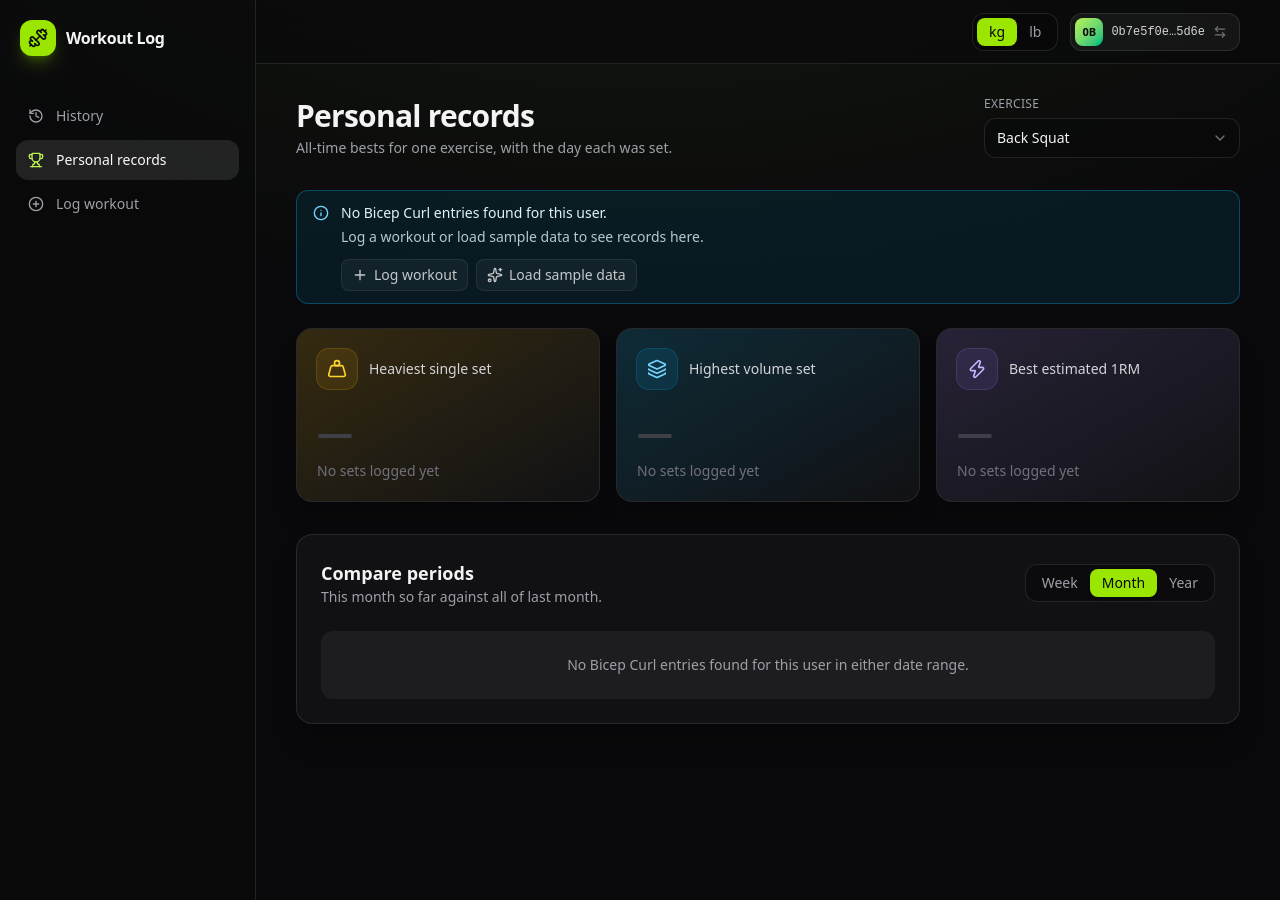
Test case: LoadSampleDataButton › says what it loaded, so an exercise outside the sample does not look broken
Click the button "Load sample data".
click(556, 275)  # box [476, 259, 637, 291]
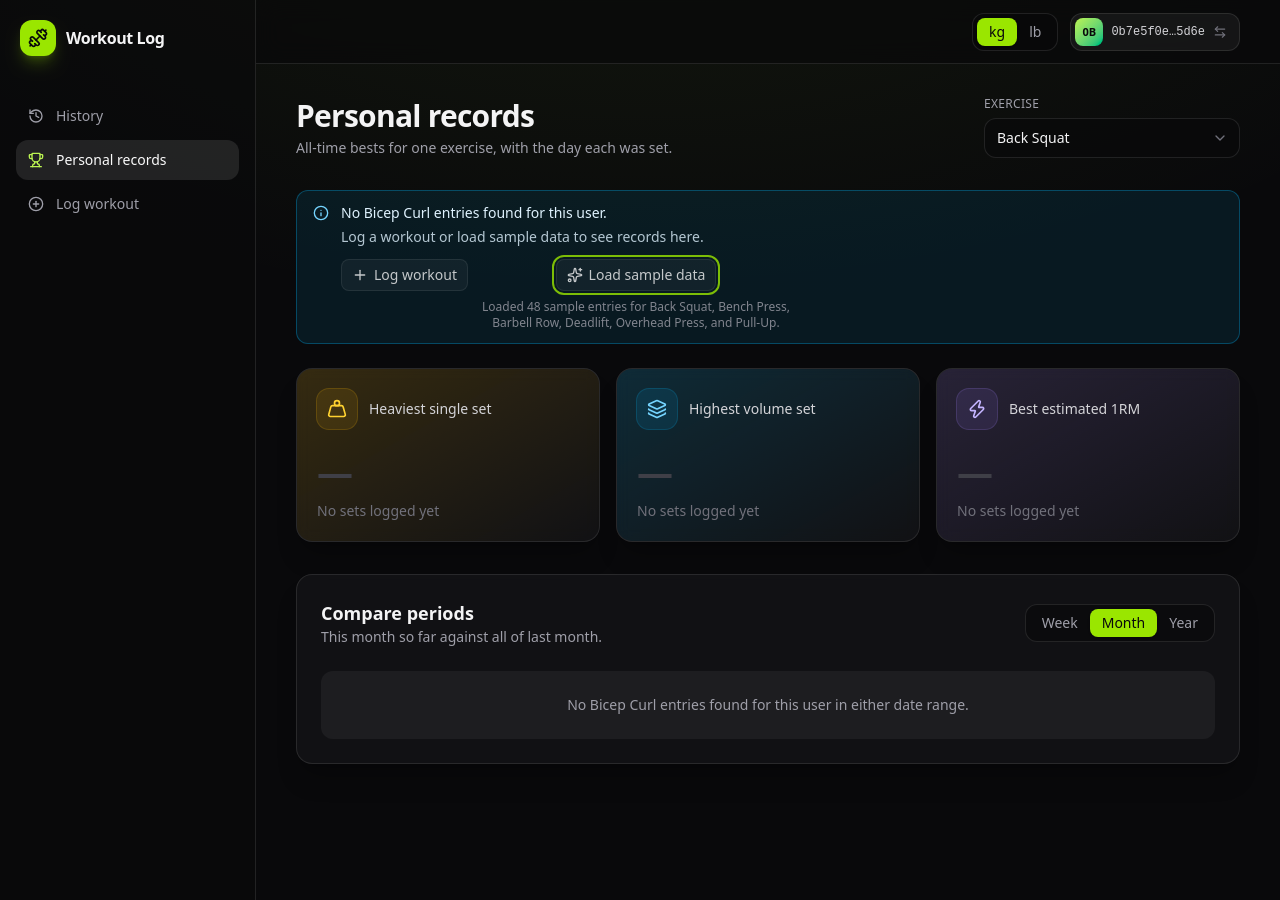
Expected: the text "Loaded 48 sample entries for Back Squat, Bench Press, Barbell Row, Deadlift, Overhead Press, and Pull-Up." is shown, [482, 298, 790, 331]
